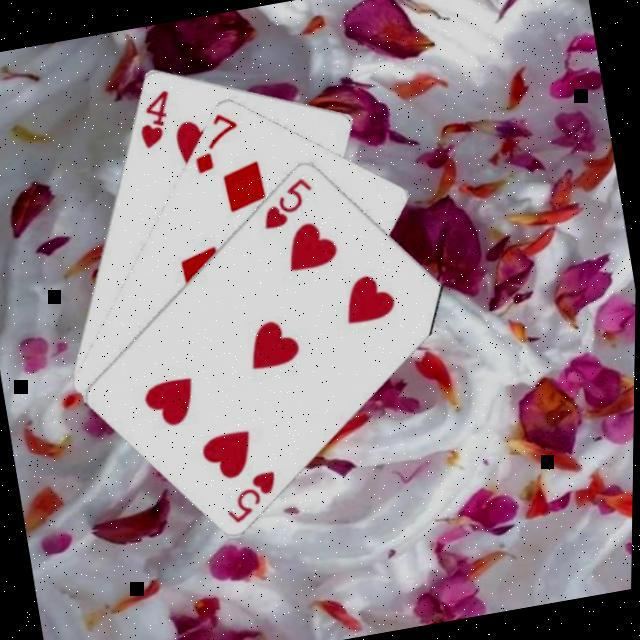4H: (130, 84, 181, 152)
5H: (219, 463, 288, 526), (254, 170, 323, 232)
7D: (184, 106, 249, 176)
